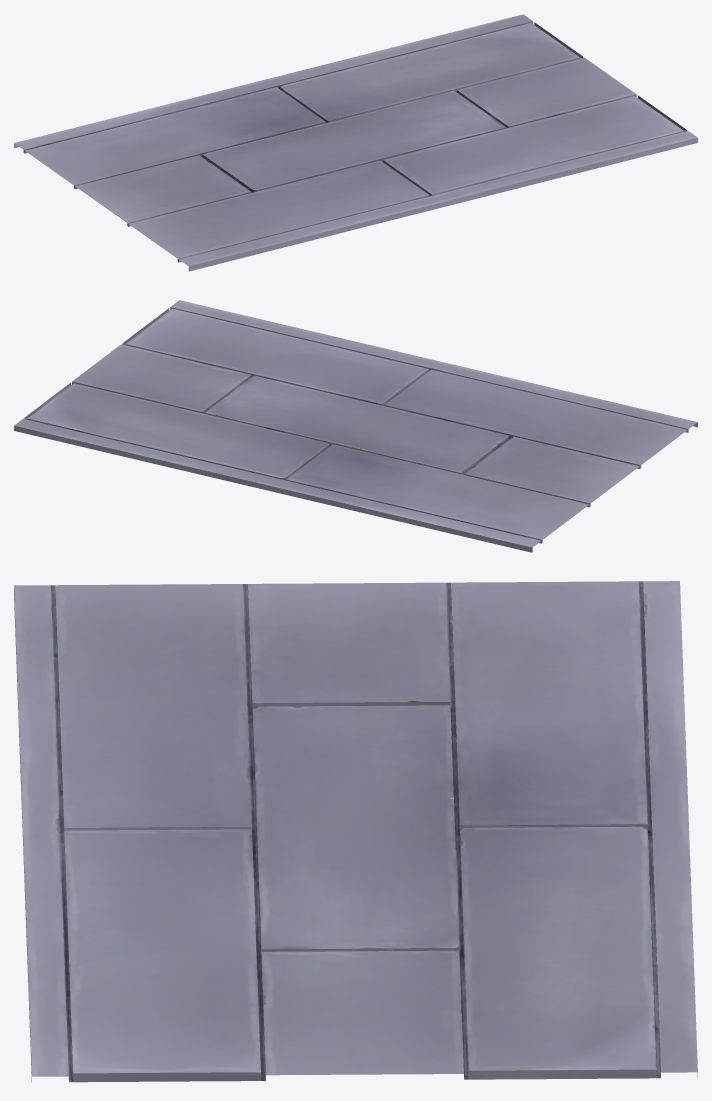
3 views of the same model, one above another, from view 1: azimuth 30°, elevation 25°; view 2: azimuth 150°, elevation 25°; view 3: azimuth 270°, elevation 25° (orthographic). The views are drawn at different scales.
Visible parts, largest first — view 1: Walkway; view 2: Walkway; view 3: Walkway.
Part boxes in pixels (x1,y1,x2,y2): Walkway: (14,14,697,271); Walkway: (14,300,697,552); Walkway: (14,581,697,1082).
Size of the model in its own units: 6.44 by 0.0616 by 3.76.
Materials: 1 (1 with a texture image).
